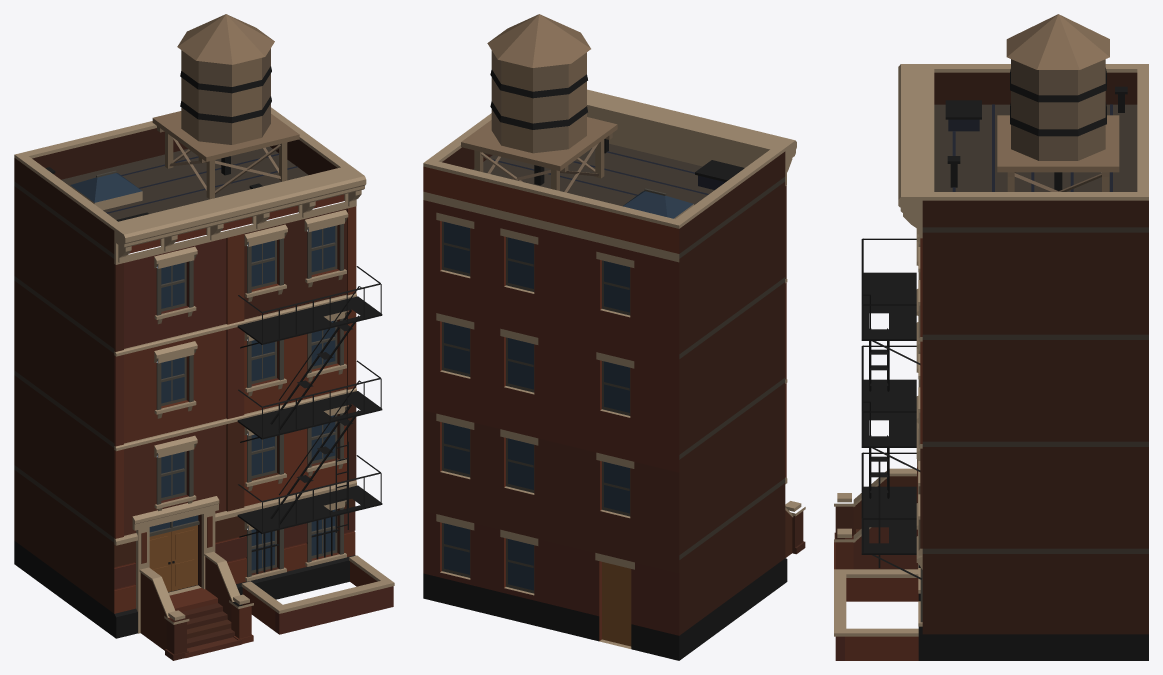
File: brownstone-row-house-1b84fd.glb
The picture shows the model from 3 angles, left to right: view 1: azimuth 30°, elevation 25°; view 2: azimuth 150°, elevation 25°; view 3: azimuth 270°, elevation 25°; orthographic projection. The views are drawn at different scales.
Visible parts, largest first — view 1: brownstone-row-house-1b84fd; view 2: brownstone-row-house-1b84fd; view 3: brownstone-row-house-1b84fd.
Part boxes in pixels (<box>): brownstone-row-house-1b84fd: <box>14,14,394,660</box>; brownstone-row-house-1b84fd: <box>423,14,805,660</box>; brownstone-row-house-1b84fd: <box>834,14,1148,660</box>.
Size of the model in its own units: 8 by 17.06 by 8.
